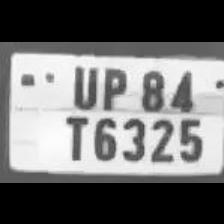2: (146, 112, 174, 162)
3: (118, 110, 146, 162)
4: (166, 66, 200, 110)
5: (174, 112, 204, 162)
6: (89, 111, 119, 160)
8: (134, 66, 166, 110)
P: (95, 62, 131, 108)
T: (57, 109, 90, 161)
U: (65, 61, 99, 107)
